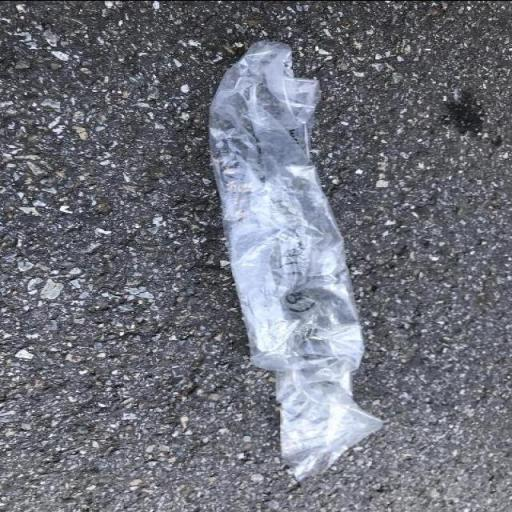plastic-bag: (204, 40, 391, 482)
